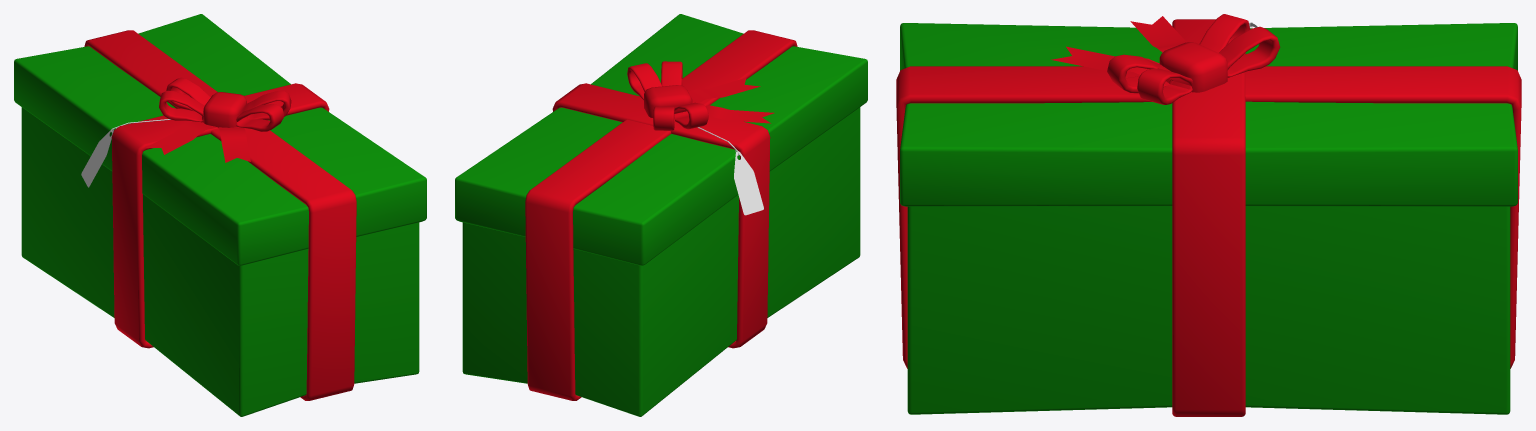
The model's file is SM_GiftBox_02.glb.
3 renders of one model, left to right at view 1: azimuth 30°, elevation 25°; view 2: azimuth 150°, elevation 25°; view 3: azimuth 270°, elevation 25°, orthographic. The views are drawn at different scales.
Visible parts, largest first — view 1: SM_GiftBox_02; view 2: SM_GiftBox_02; view 3: SM_GiftBox_02.
Boxes of the visible parts, x1,y1,x2,y2 form: SM_GiftBox_02: (14, 14, 426, 416); SM_GiftBox_02: (455, 14, 867, 416); SM_GiftBox_02: (896, 14, 1521, 416).
Bounding box in the file's own units: 1.13 × 1.15 × 2.08.
